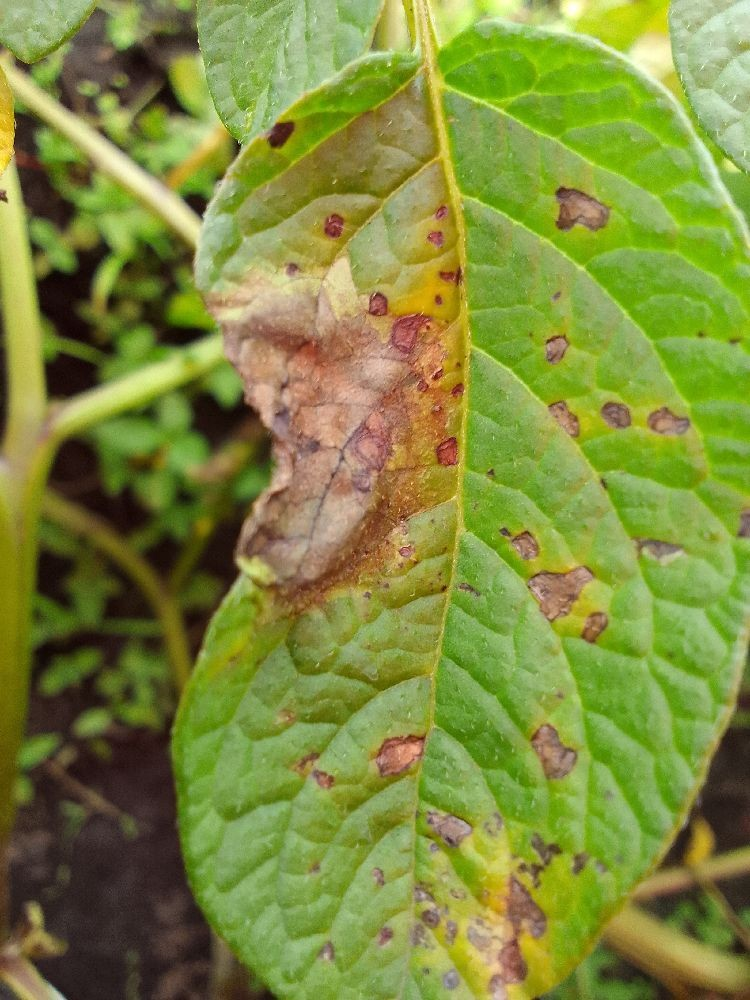late_blight: (0, 0, 489, 999), (553, 613, 750, 1000), (388, 815, 602, 1000), (519, 554, 617, 653)
